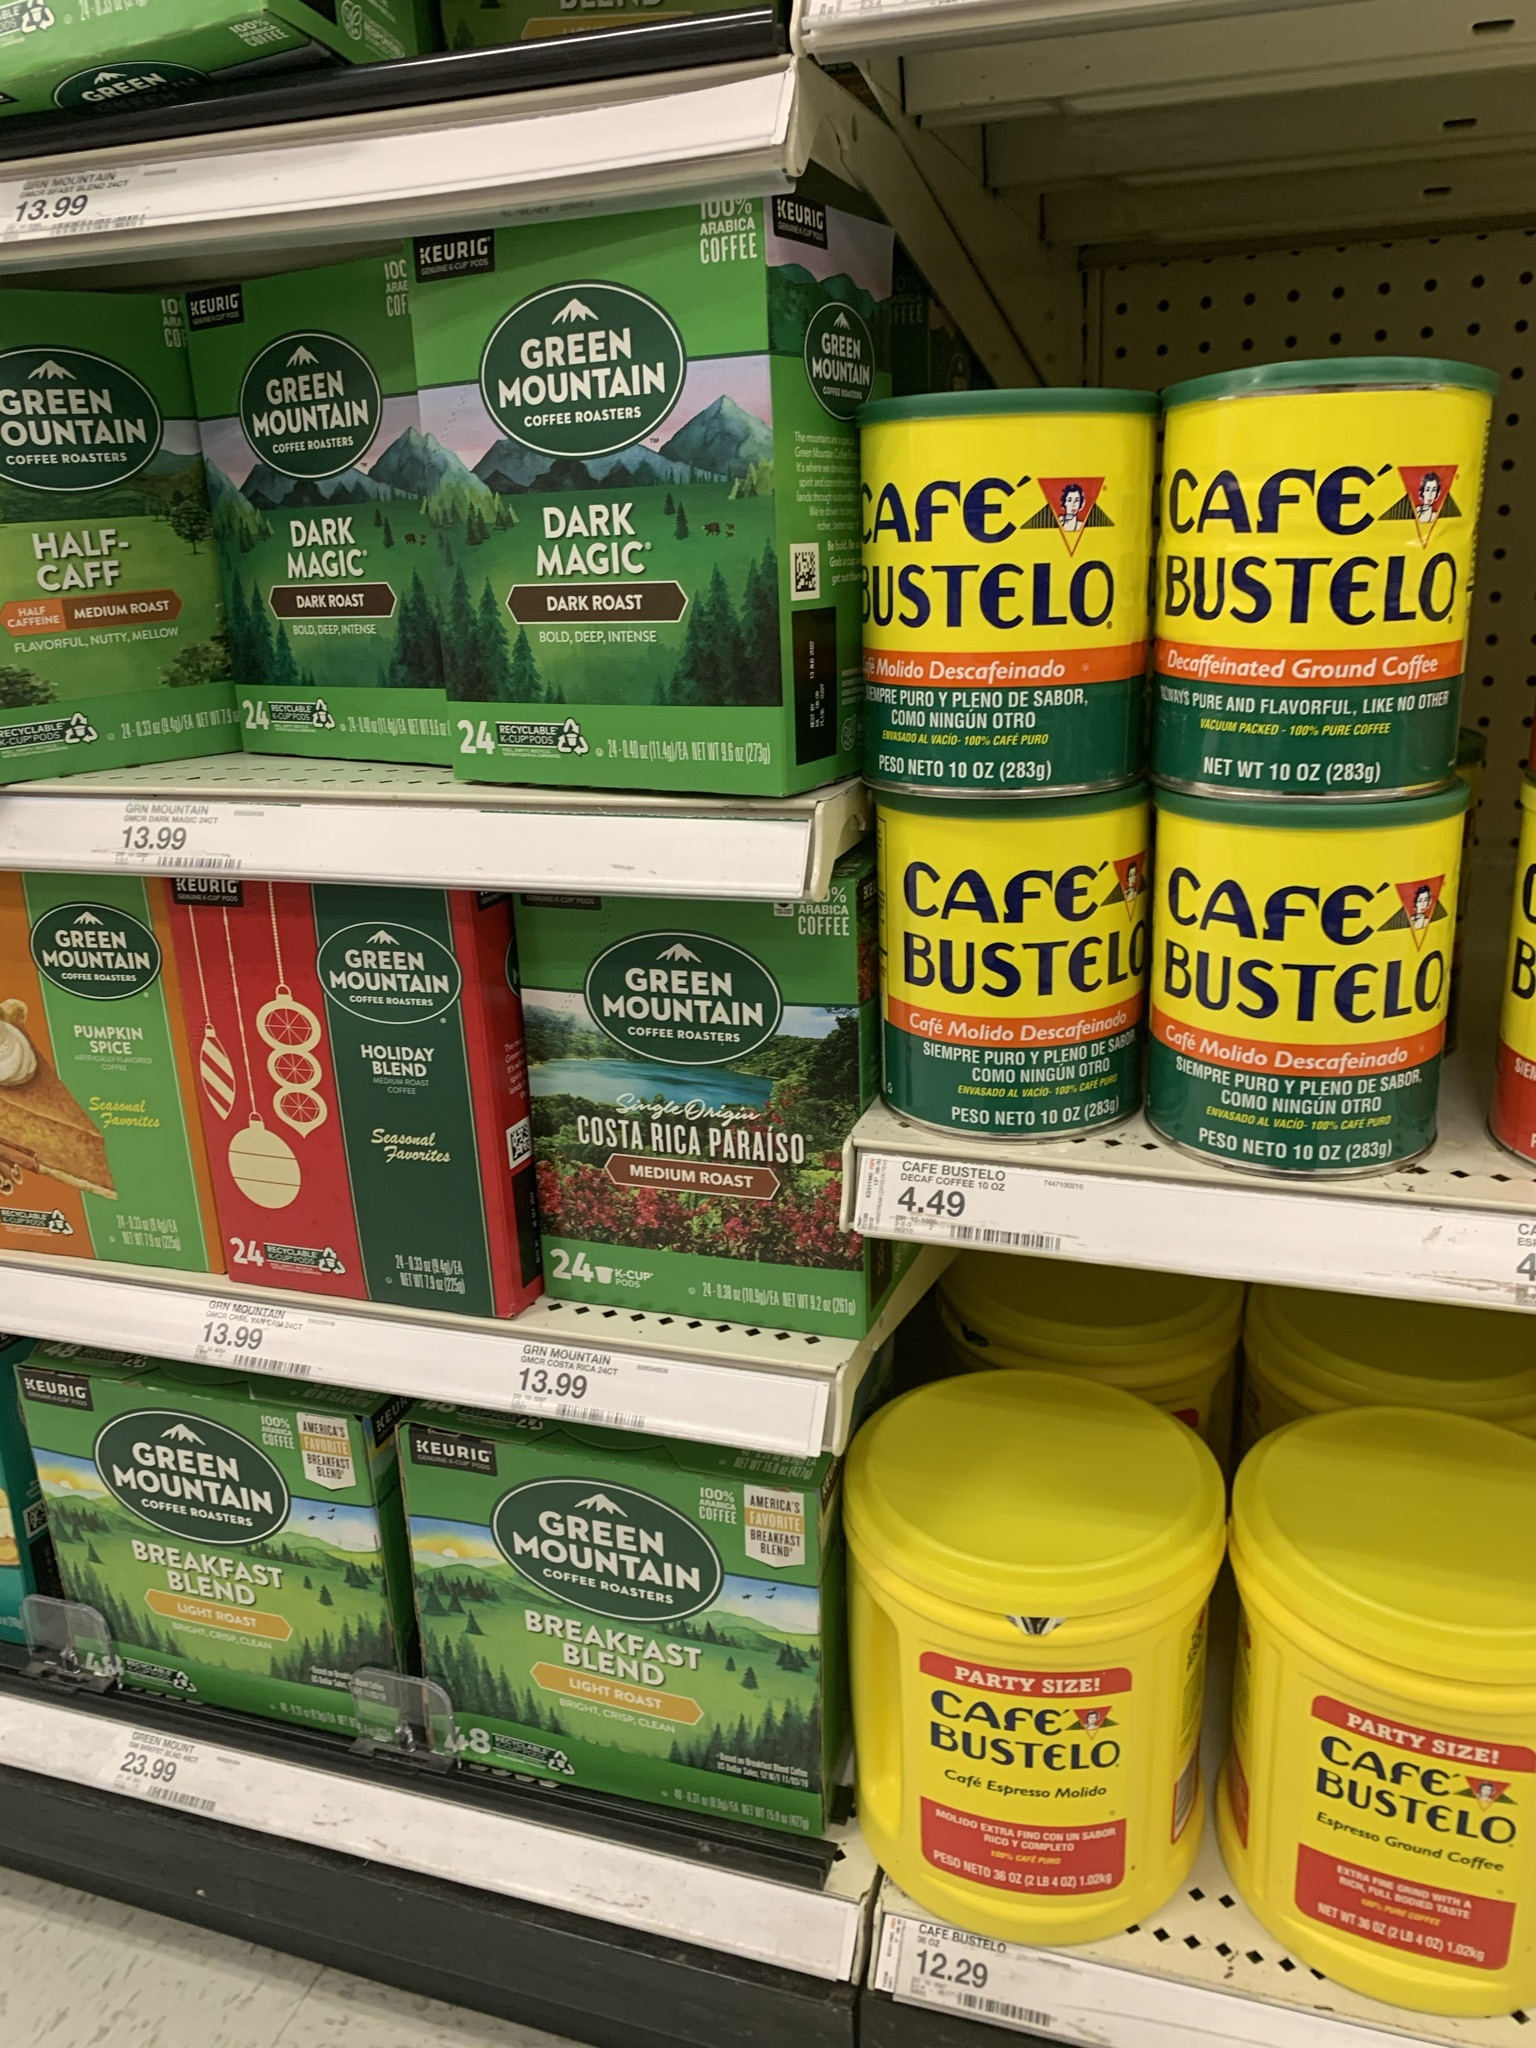box: (457, 227, 791, 774), (432, 1463, 820, 1779), (545, 898, 854, 1288), (231, 884, 484, 1292), (52, 1411, 373, 1698), (239, 268, 405, 753)
can: (1173, 393, 1447, 792), (871, 408, 1146, 789), (1175, 813, 1442, 1155), (887, 814, 1131, 1116)
